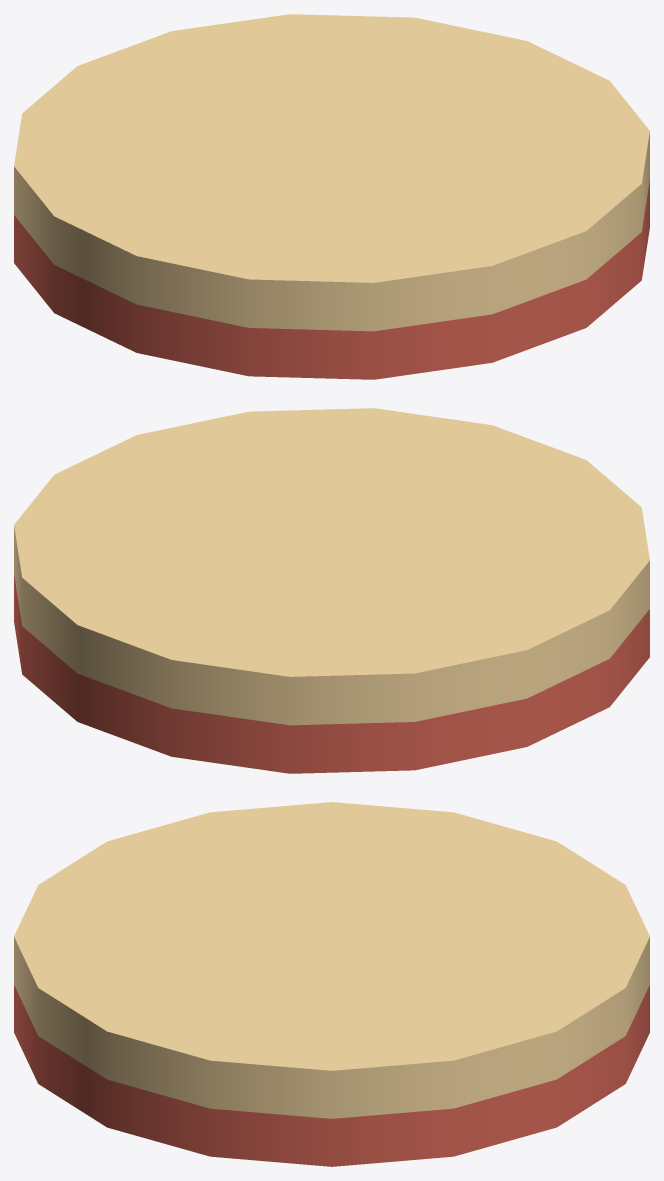
Rendered from ChairSeat4.fbx.
3 renders of one model, top to bottom at view 1: azimuth 30°, elevation 25°; view 2: azimuth 150°, elevation 25°; view 3: azimuth 270°, elevation 25°, orthographic.
Visible parts, largest first — view 1: ChairSeat4; view 2: ChairSeat4; view 3: ChairSeat4.
Boxes of the visible parts, box(x1,y1,x2,y2) form: ChairSeat4: box(14, 14, 649, 379); ChairSeat4: box(14, 408, 649, 773); ChairSeat4: box(14, 802, 649, 1166).
Bounding box in the file's own units: 0.48 × 0.08 × 0.48.
